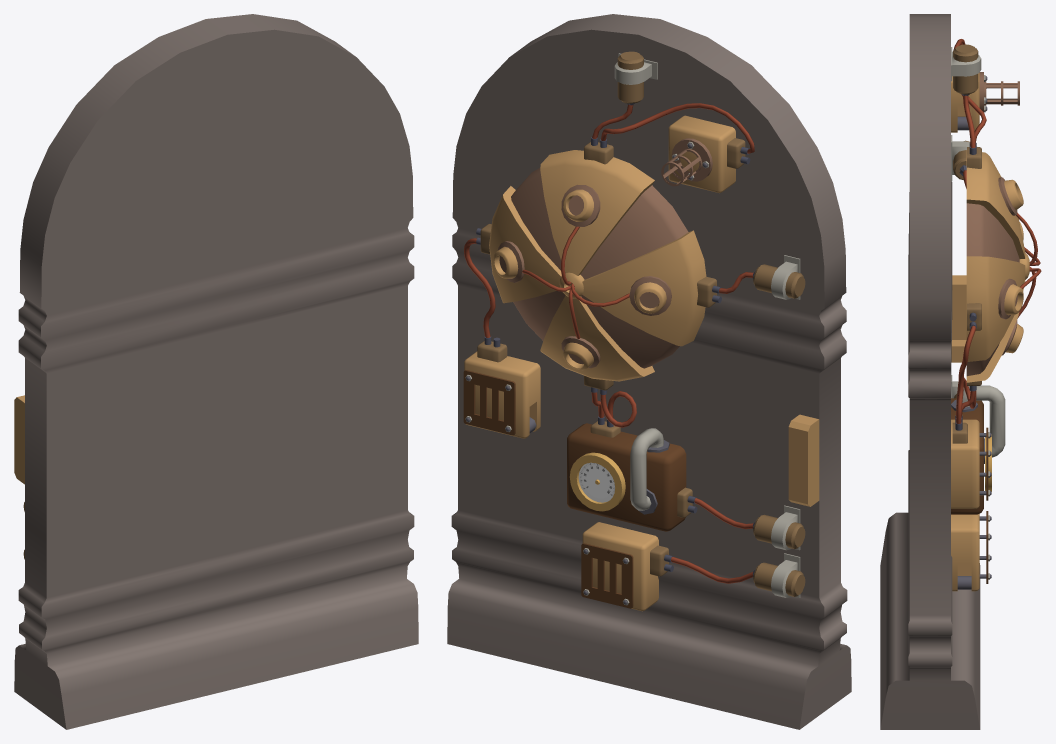
The model's file is Door (2).fbx.
3 views of the same model, side by side, from view 1: azimuth 30°, elevation 25°; view 2: azimuth 150°, elevation 25°; view 3: azimuth 270°, elevation 25° (orthographic). The views are drawn at different scales.
Visible parts, largest first — view 1: Door_Body; view 2: Door_Body; view 3: Door_Body.
Part boxes in pixels (x1,y1,x2,y2): Door_Body: [14, 14, 418, 729]; Door_Body: [447, 14, 851, 729]; Door_Body: [880, 14, 1041, 729].
Size of the model in its own units: 205 by 338 by 80.38.
